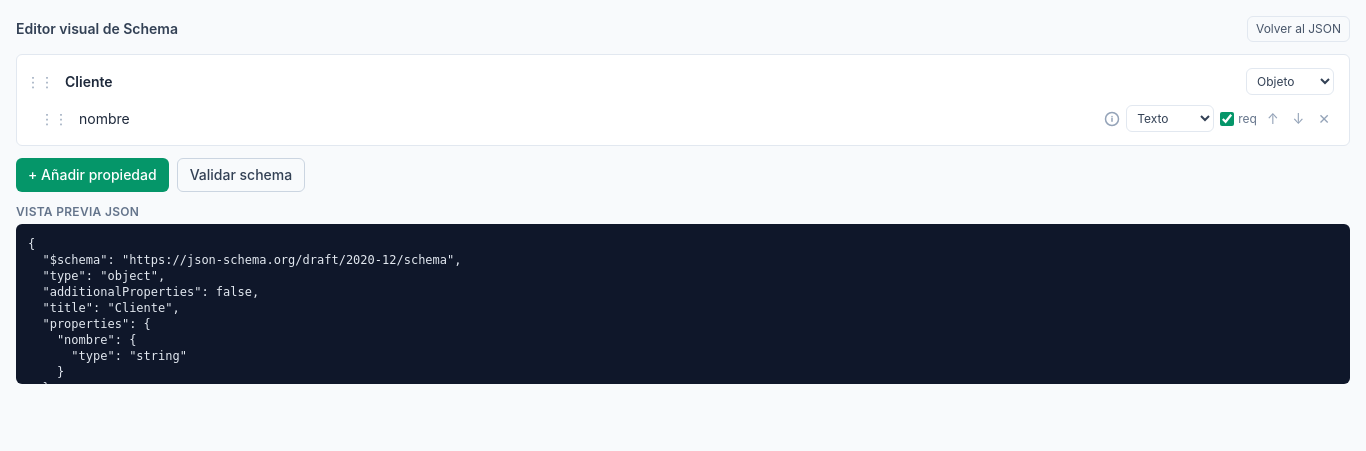
VisualSchemaEditor › valida un schema válido y muestra la confirmación
The image size is (1366, 451).
Click the button "Validar schema". click: (241,175)
box: 177,158 -> 305,192
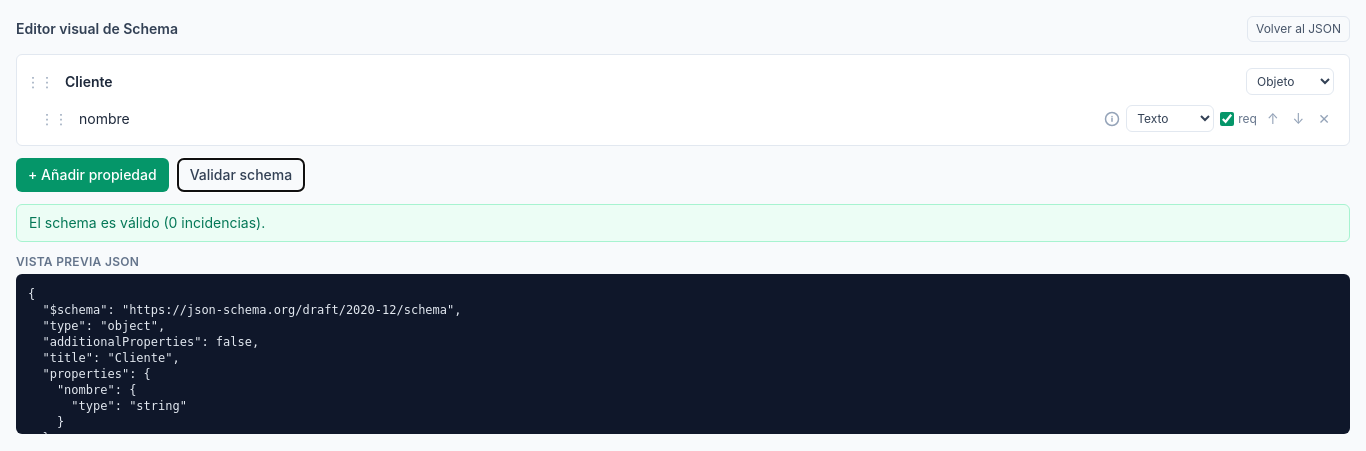
expect the text "El schema es válido (0 incidencias)." is shown: met, box 16,204 -> 1350,242
